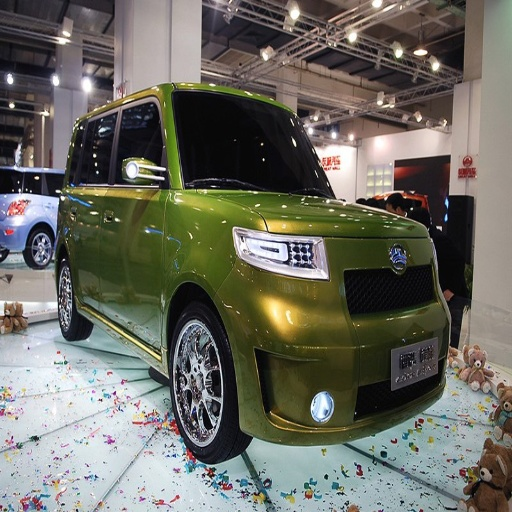front_bumper: (231, 237, 452, 432)
front_right_door: (104, 99, 165, 338)
front_right_light: (235, 230, 330, 281)
trunk: (2, 195, 74, 270)
